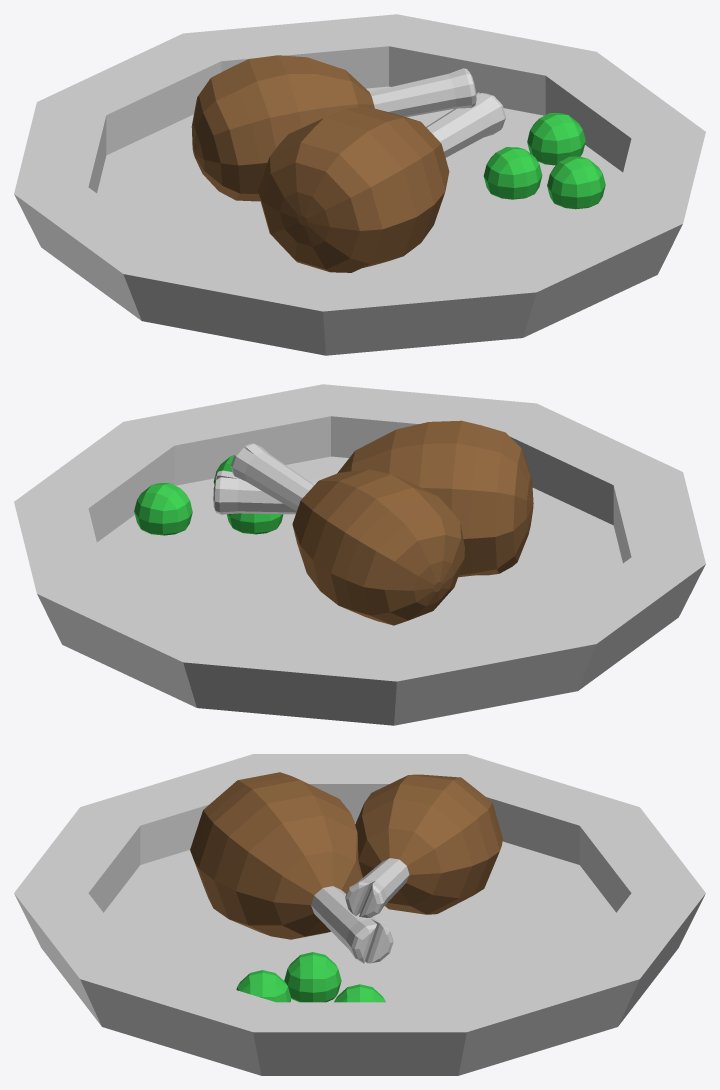
File: food_plate.obj
3 views of the same model, one above another, from view 1: azimuth 30°, elevation 25°; view 2: azimuth 150°, elevation 25°; view 3: azimuth 270°, elevation 25° (orthographic). The views are drawn at different scales.
Visible parts, largest first — view 1: food_plate; view 2: food_plate; view 3: food_plate.
Boxes of the visible parts, left/top/right/bottom form: food_plate: left=14, top=14, right=705, bottom=355; food_plate: left=14, top=384, right=705, bottom=725; food_plate: left=14, top=754, right=705, bottom=1075.
Bounding box in the file's own units: 0.1964 × 0.0458 × 0.2065.
